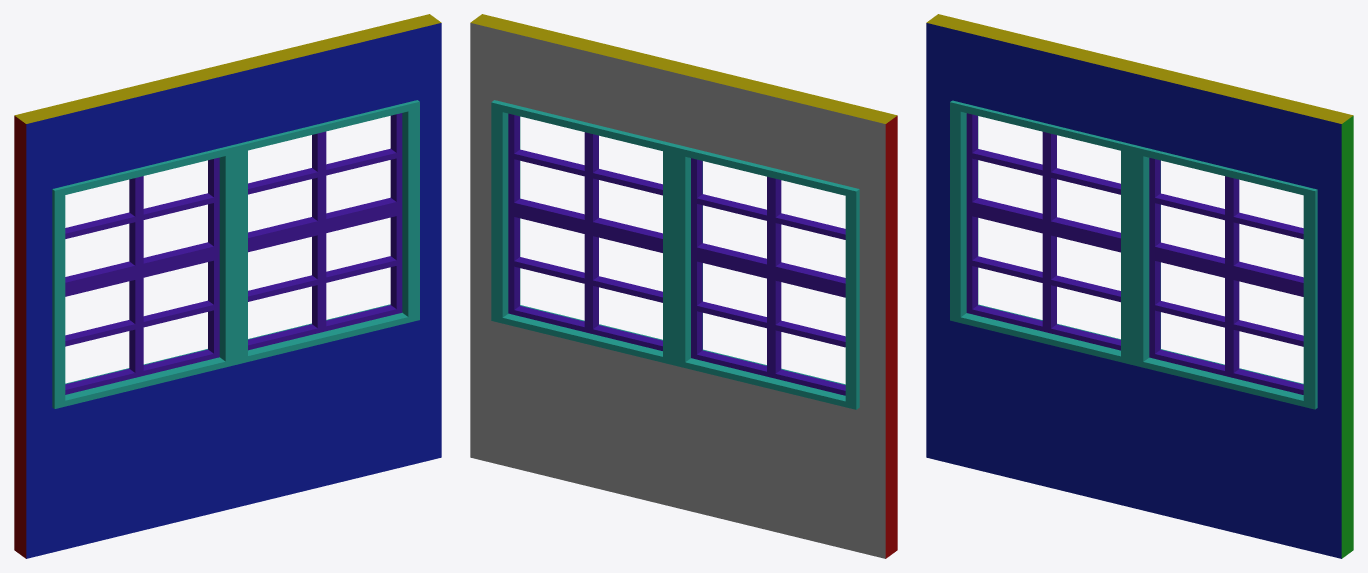
File: Wall_Window_05c.fbx
3 renders of one model, left to right at view 1: azimuth 30°, elevation 25°; view 2: azimuth 150°, elevation 25°; view 3: azimuth 330°, elevation 25°, orthographic.
Visible parts, largest first — view 1: Wall_Window_05c; view 2: Wall_Window_05c; view 3: Wall_Window_05c.
Part boxes in pixels (<box>): Wall_Window_05c: <box>14,14,441,558</box>; Wall_Window_05c: <box>470,14,897,558</box>; Wall_Window_05c: <box>926,14,1353,558</box>.
Bounding box in the file's own units: 3 × 0.22 × 3.
